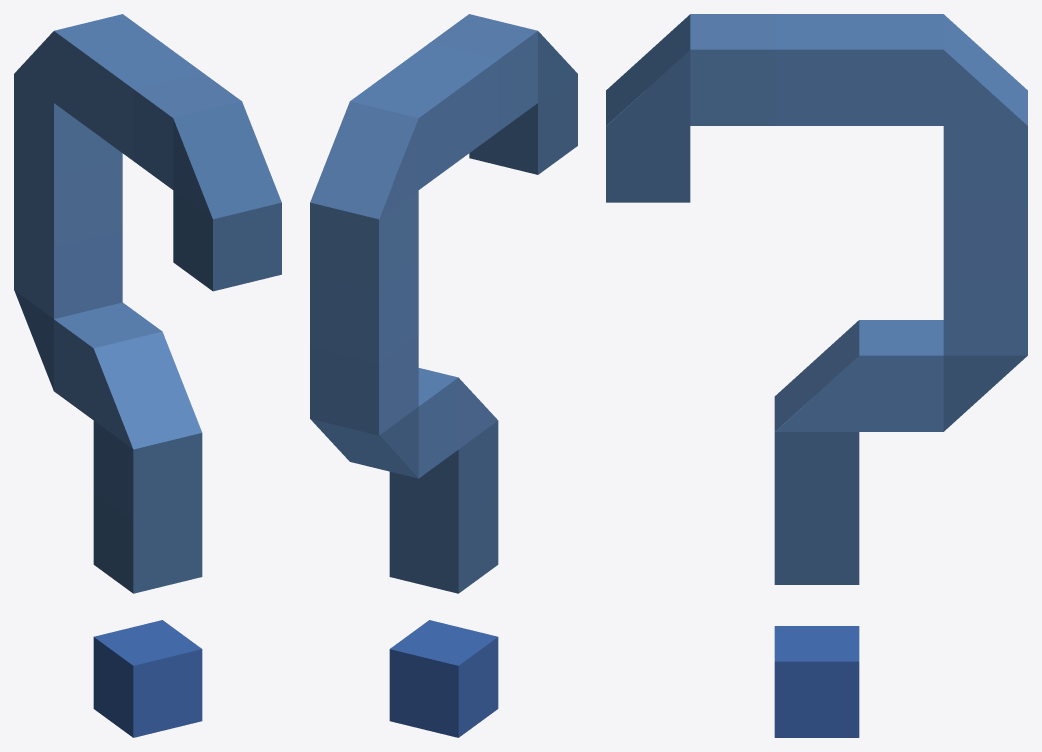
Rendered from questionmark.fbx.
3 renders of one model, left to right at view 1: azimuth 30°, elevation 25°; view 2: azimuth 150°, elevation 25°; view 3: azimuth 270°, elevation 25°, orthographic. The views are drawn at different scales.
Visible parts, largest first — view 1: Cube.002; view 2: Cube.002; view 3: Cube.002.
Part boxes in pixels (x1=…): Cube.002: x1=14, y1=14, x2=281, y2=737; Cube.002: x1=310, y1=14, x2=577, y2=737; Cube.002: x1=606, y1=14, x2=1027, y2=737.
Bounding box in the file's own units: 200 × 1800 × 1000.
